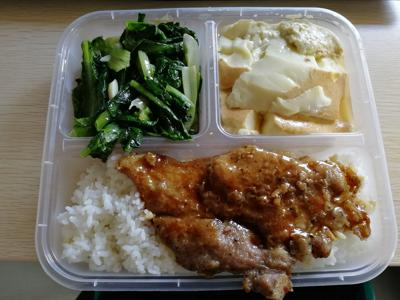df: (218, 18, 361, 133)
ymc: (70, 19, 195, 139)
